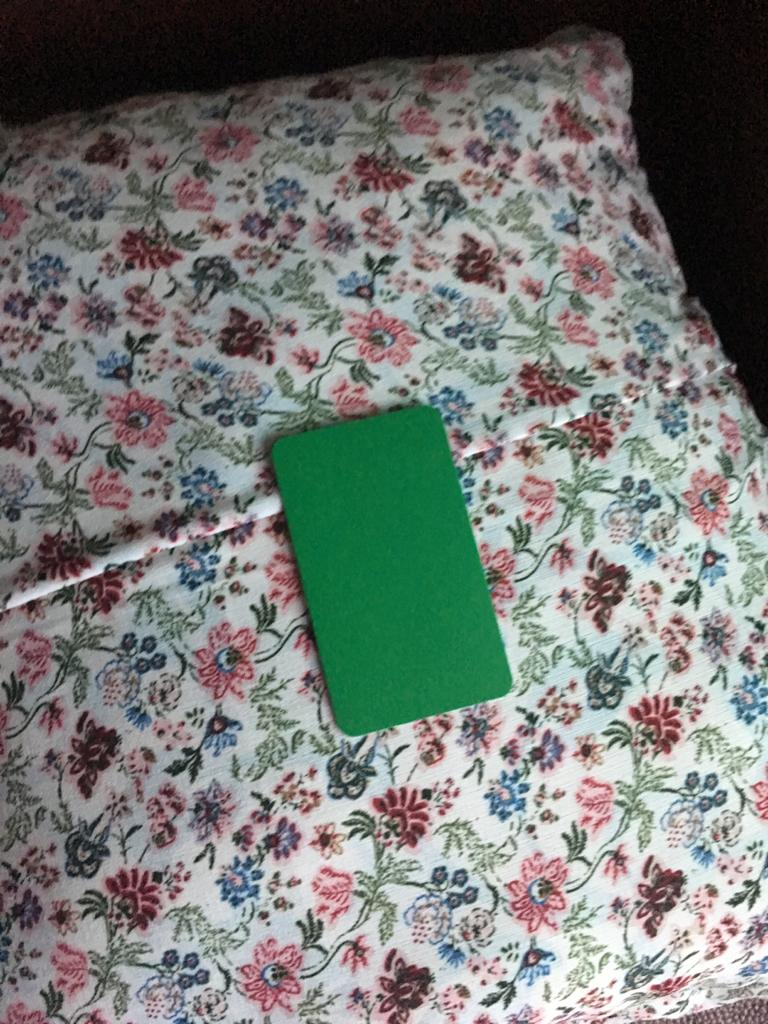green: (234, 393, 544, 751)
